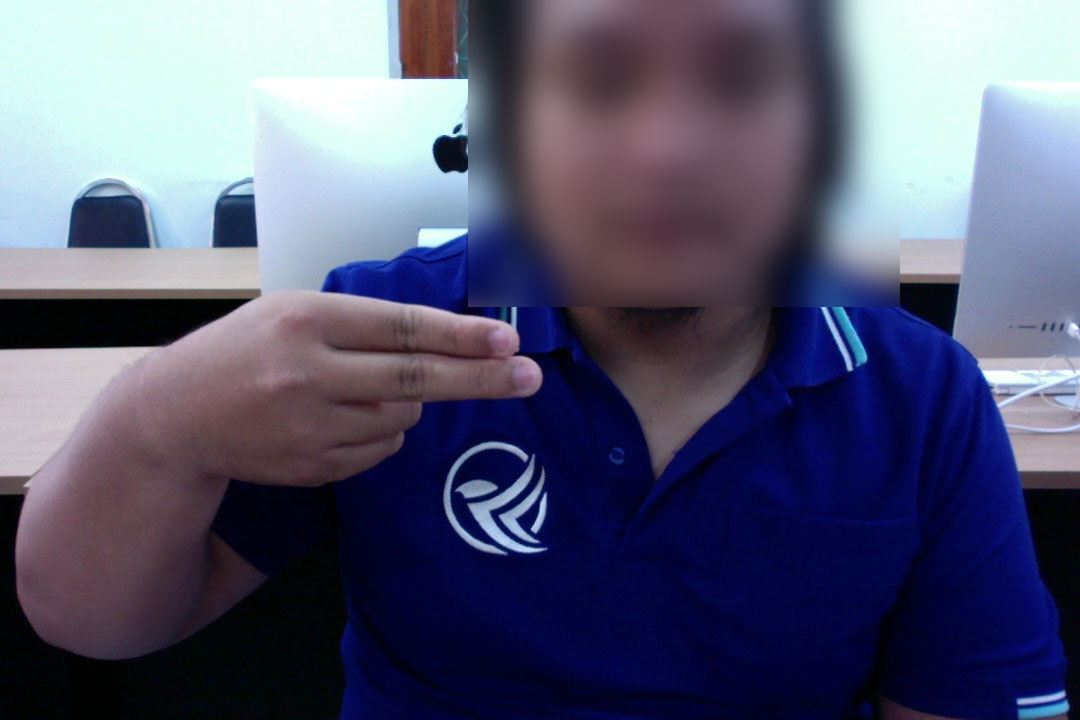hor: (149, 274, 549, 492)
